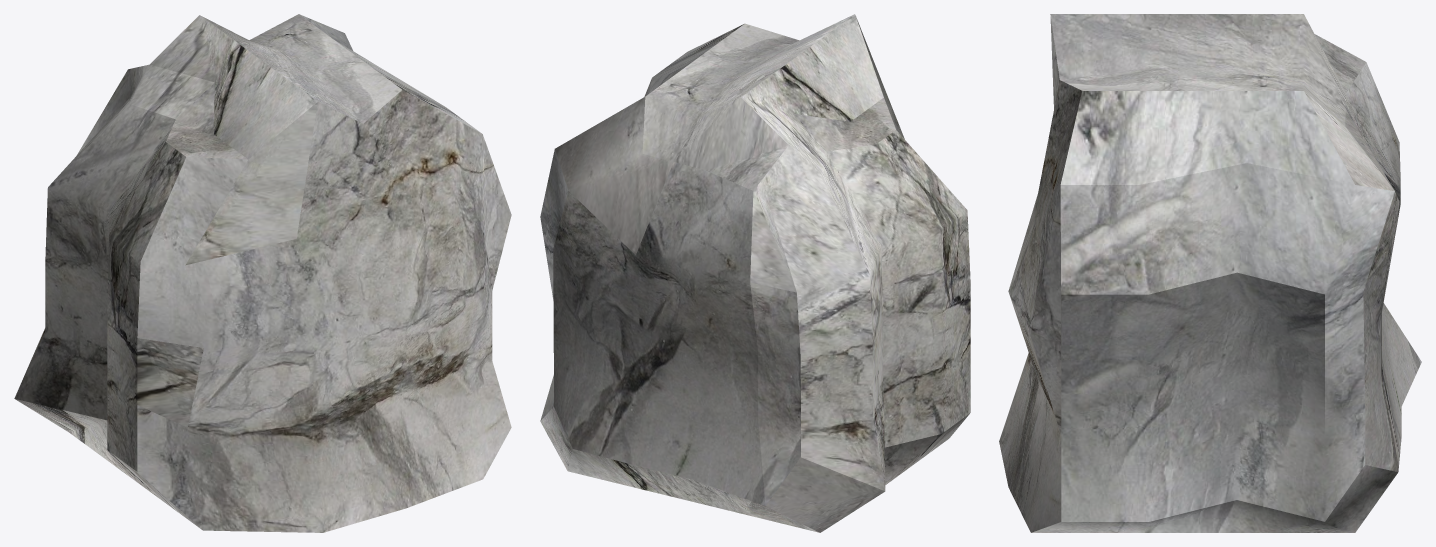
File: boulder.fbx
3 views of the same model, side by side, from view 1: azimuth 30°, elevation 25°; view 2: azimuth 150°, elevation 25°; view 3: azimuth 270°, elevation 25° (orthographic). The views are drawn at different scales.
Parts seen in each view (by area): view 1: pCube1; view 2: pCube1; view 3: pCube1.
Part boxes in pixels (x1,y1,x2,y2): pCube1: (14,14,511,532); pCube1: (540,14,970,532); pCube1: (999,14,1421,532).
Size of the model in its own units: 2.72 by 2.9 by 2.54.
Materials: 1 (1 with a texture image).
